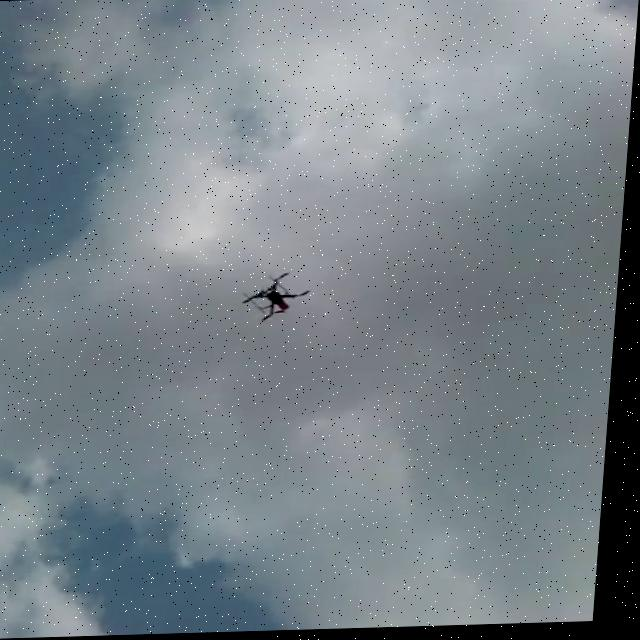drone: (246, 272, 322, 326)
